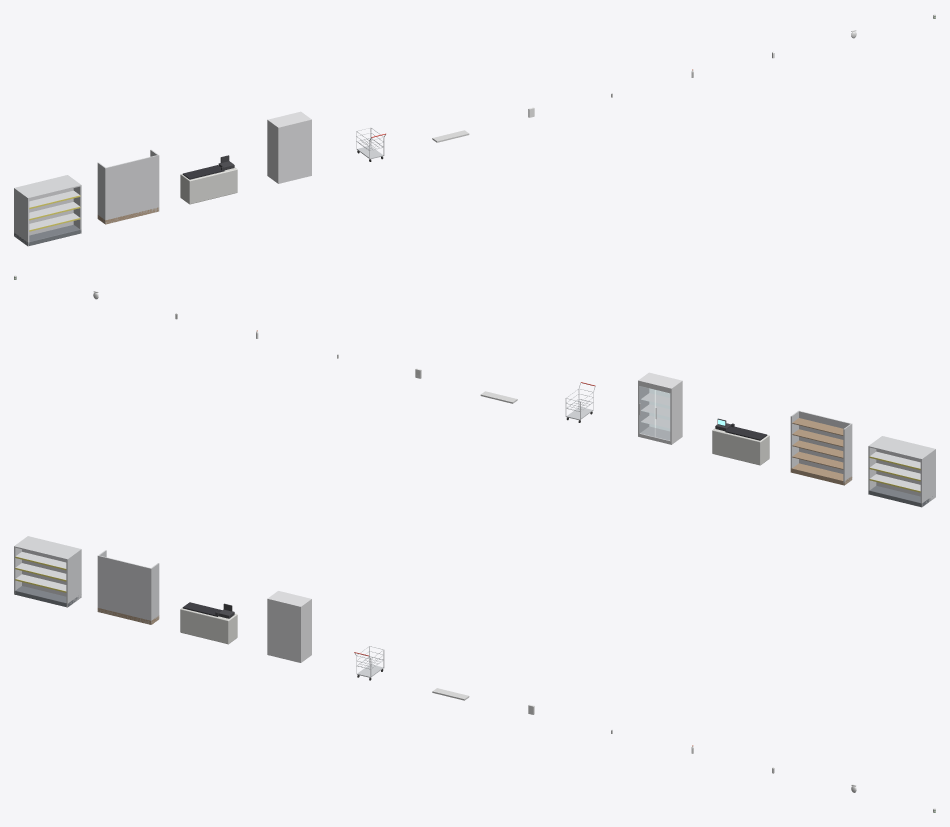
Rendered from shop.glb.
3 renders of one model, top to bottom at view 1: azimuth 30°, elevation 25°; view 2: azimuth 150°, elevation 25°; view 3: azimuth 330°, elevation 25°, orthographic.
Visible parts, largest first — view 1: gondola, wall_shelf, freezer, checkout, cart; view 2: gondola, wall_shelf, freezer, checkout, cart; view 3: gondola, wall_shelf, freezer, checkout.
Boxes of the visible parts, bbox=[...] form: gondola: bbox=[14, 175, 81, 246]; wall_shelf: bbox=[97, 149, 159, 224]; freezer: bbox=[267, 111, 311, 183]; checkout: bbox=[180, 155, 237, 204]; cart: bbox=[356, 127, 385, 161]; gondola: bbox=[868, 436, 935, 507]; wall_shelf: bbox=[790, 410, 852, 485]; freezer: bbox=[638, 372, 682, 444]; checkout: bbox=[712, 418, 769, 465]; cart: bbox=[565, 382, 595, 422]; gondola: bbox=[14, 536, 81, 607]; wall_shelf: bbox=[97, 550, 159, 624]; freezer: bbox=[267, 591, 311, 662]; checkout: bbox=[180, 602, 237, 644].
Size of the model in its own units: 34.05 by 2.04 by 1.02.
